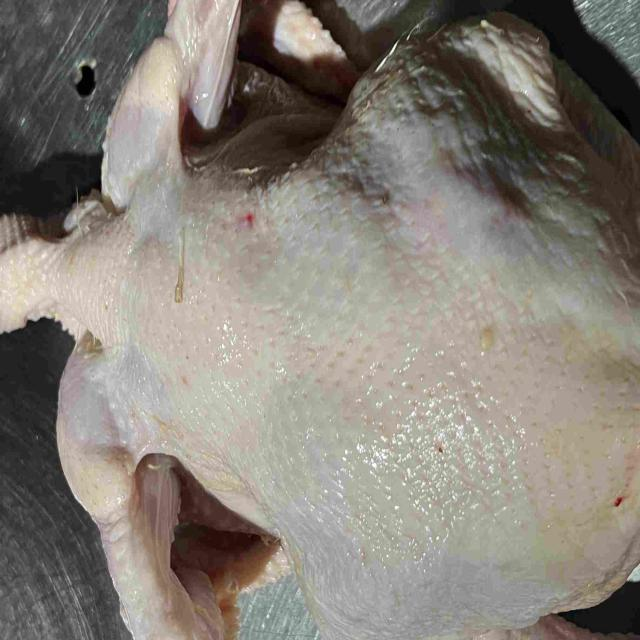back: (151, 163, 640, 579)
leg: (332, 10, 640, 250), (291, 539, 640, 640)
neck: (0, 194, 151, 338)
wing: (53, 336, 283, 640), (107, 0, 253, 175)
